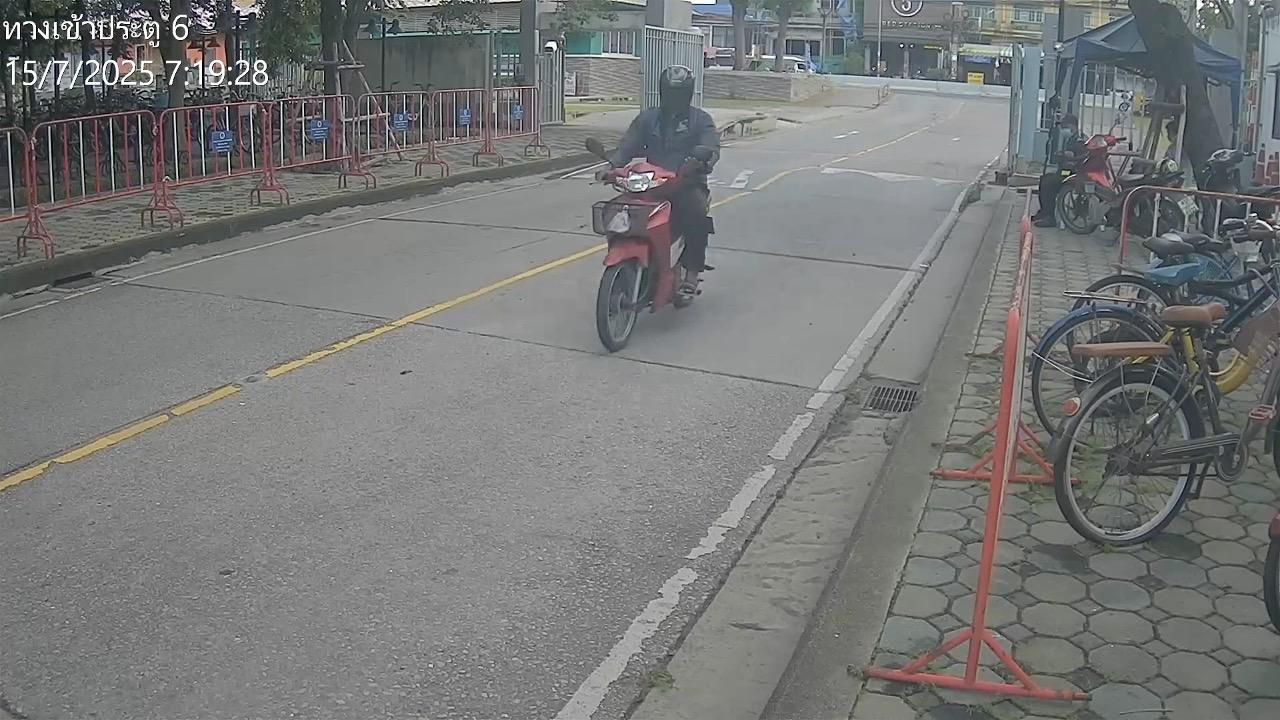With-Helmet: (658, 64, 695, 110)
